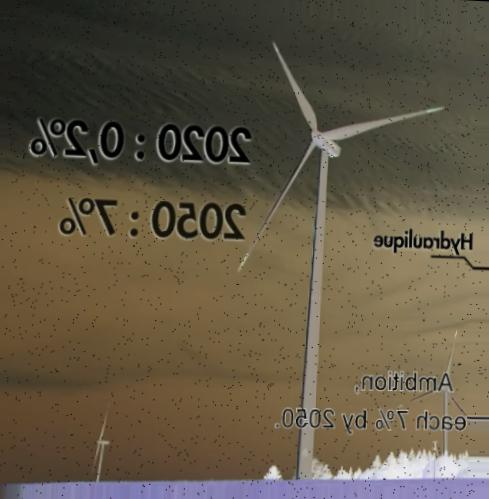wind turbine: (237, 40, 443, 475)
